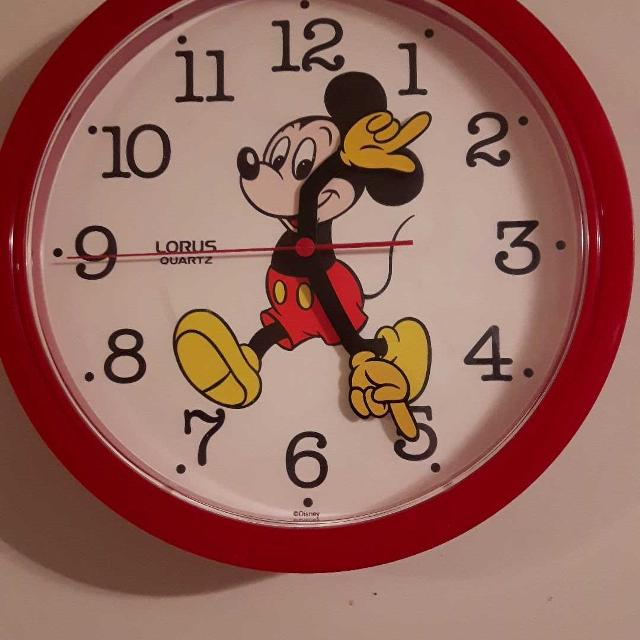clock: (37, 2, 588, 531)
